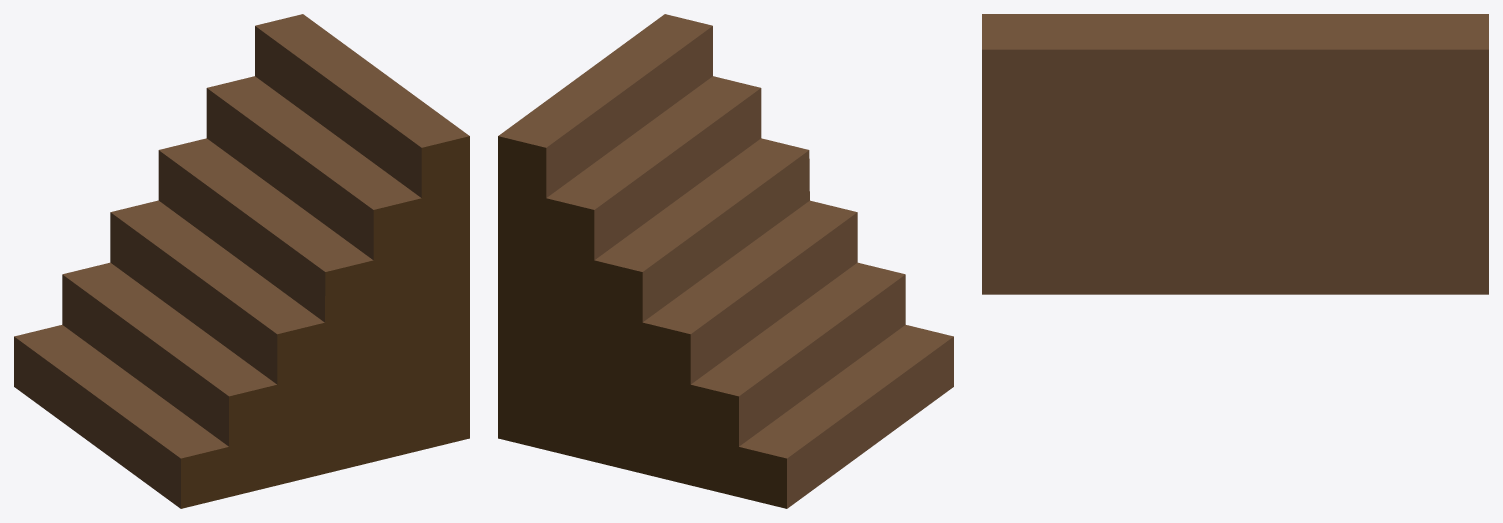
Rendered from Escalera Completa.fbx.
3 renders of one model, left to right at view 1: azimuth 30°, elevation 25°; view 2: azimuth 150°, elevation 25°; view 3: azimuth 270°, elevation 25°, orthographic. The views are drawn at different scales.
Parts seen in each view (by area): view 1: pasted__pCube1; view 2: pasted__pCube1; view 3: pasted__pCube1.
Boxes of the visible parts, <box> form: pasted__pCube1: <box>14,14,469,508</box>; pasted__pCube1: <box>498,14,953,508</box>; pasted__pCube1: <box>982,14,1488,294</box>.
Bounding box in the file's own units: 2 × 2 × 2.
